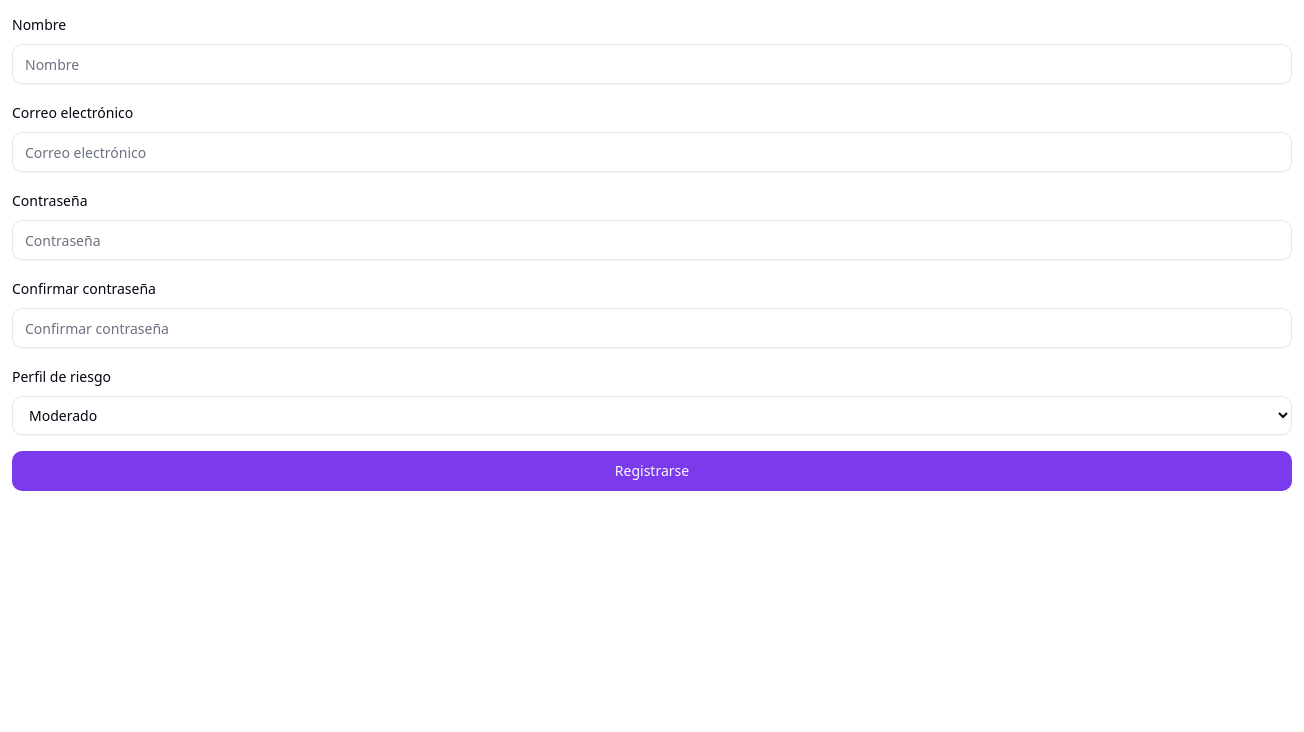
Test case: RegisterForm › muestra mensaje de error cuando el registro falla
Type "Jane" into the field with placeholder "Nombre".
click(652, 64); type("Jane")  # box [12,44,1292,84]
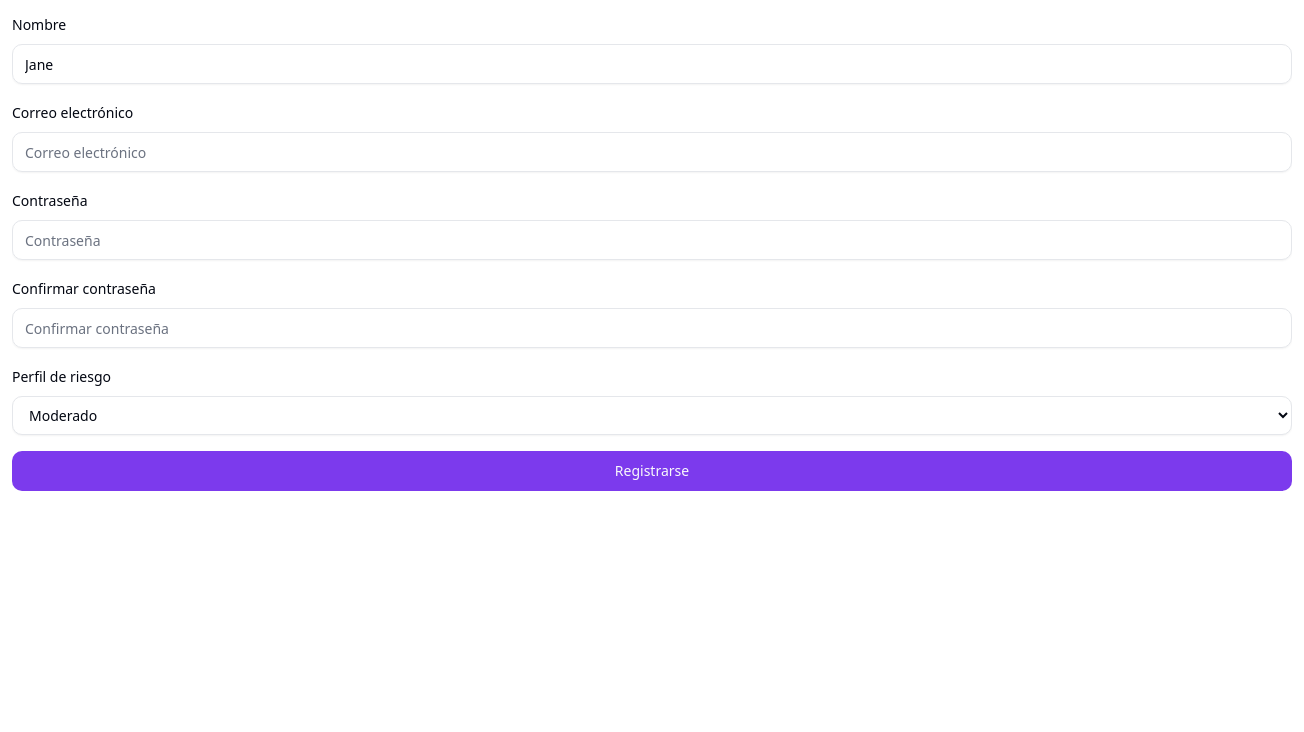
Type "user@example.com" into the field with placeholder "Correo electrónico".
click(652, 152); type("user@example.com")  # box [12,132,1292,172]
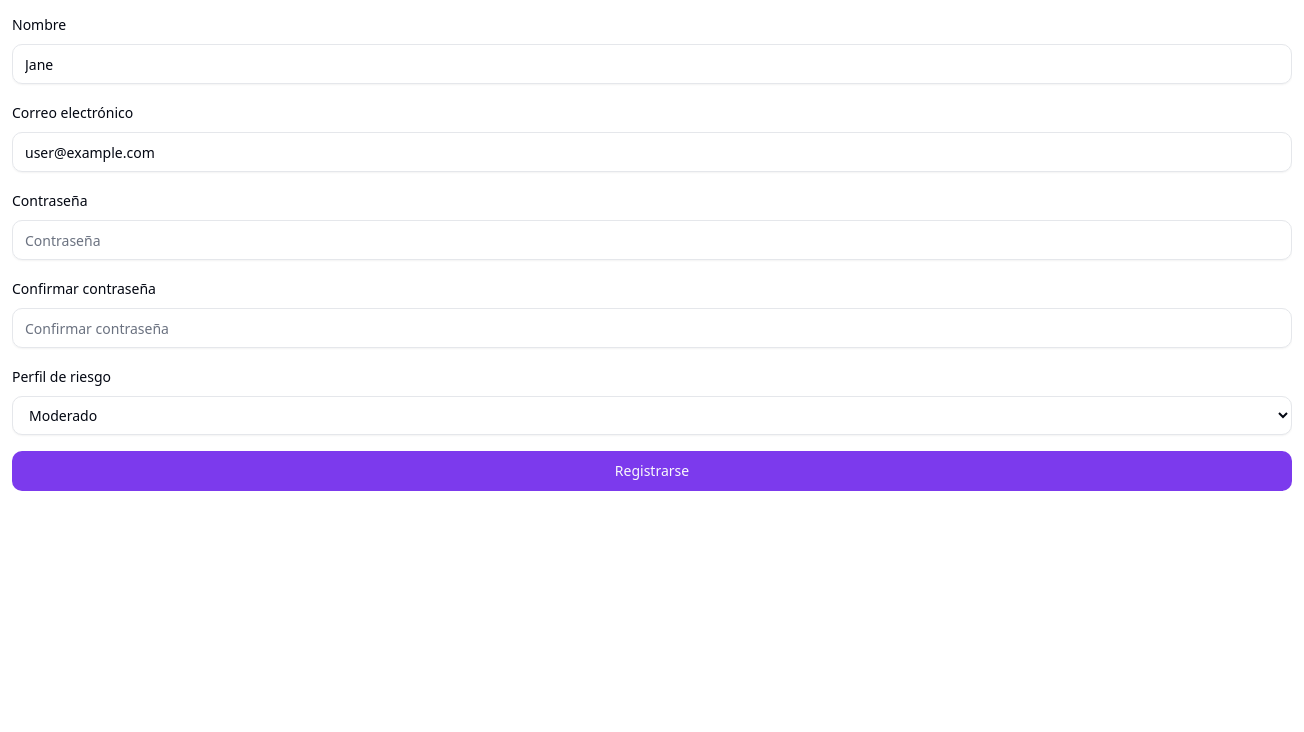
Type "secret123" into the password field with placeholder "Contraseña".
click(652, 240); type("secret123")  # box [12,220,1292,260]
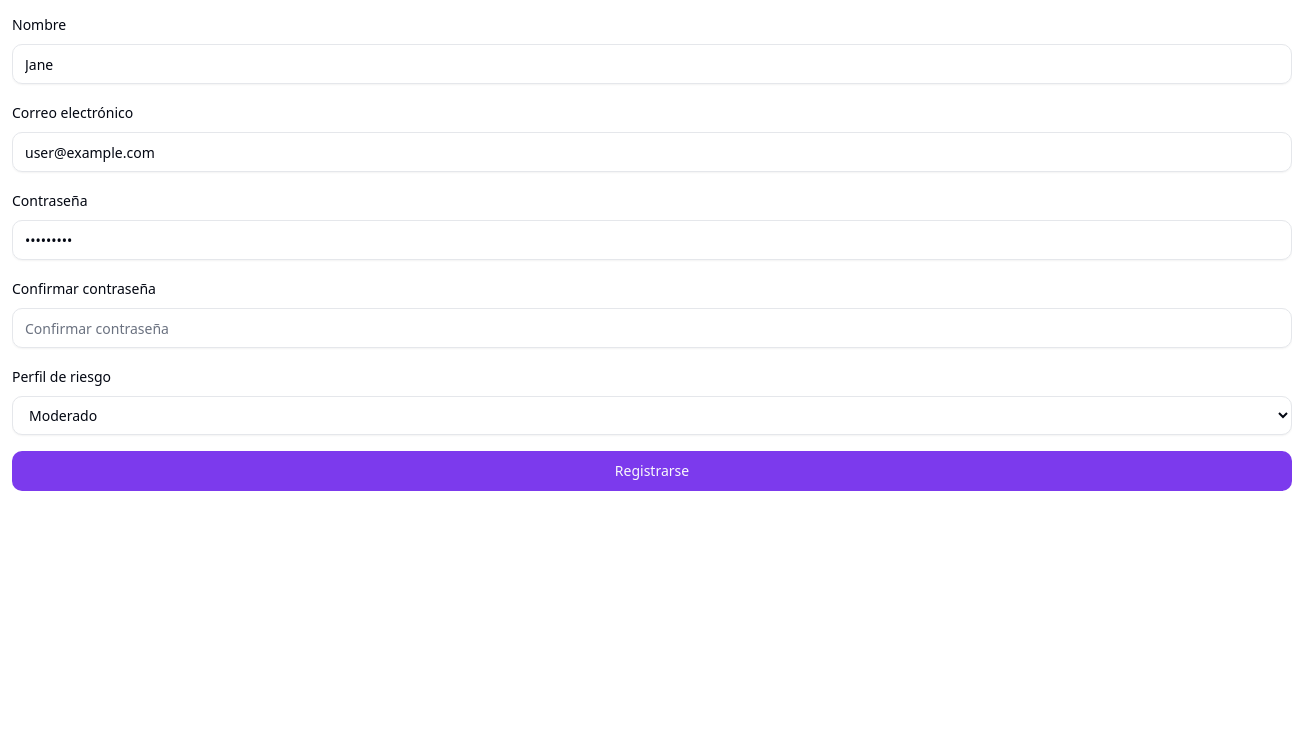
Type "secret123" into the password field with placeholder "Confirmar contraseña".
click(652, 328); type("secret123")  # box [12,308,1292,348]
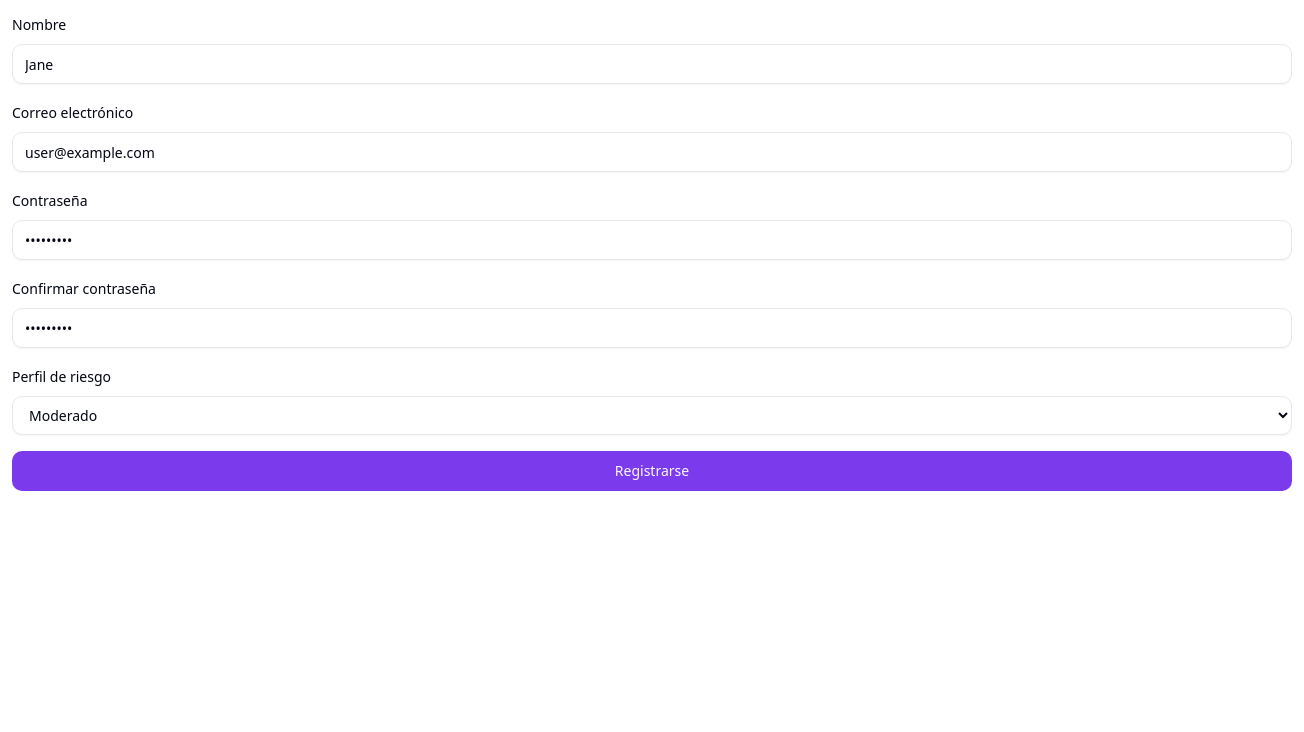
Submit the form named "registrarse"
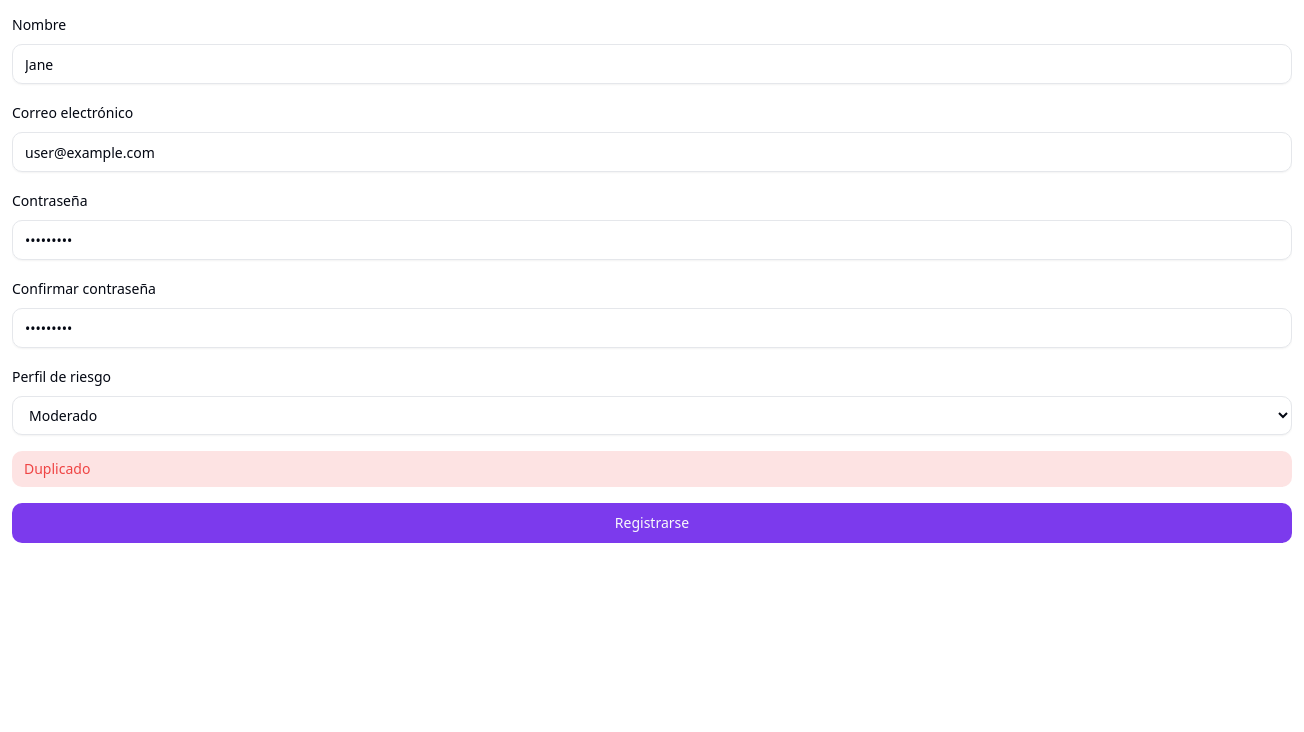
Expected: the text "Duplicado" is shown, [12,451,1292,487]
